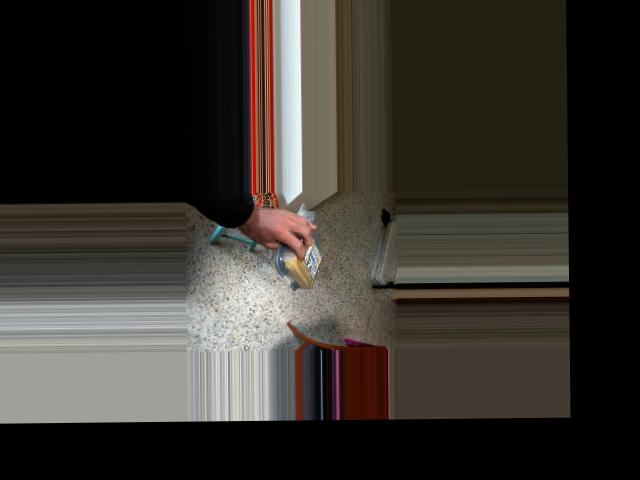cheese: (281, 227, 323, 292)
